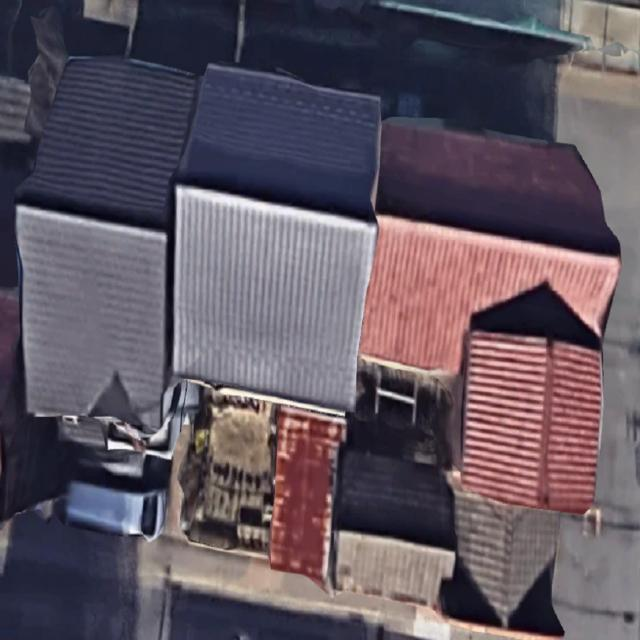Batiment: (360, 122, 620, 513), (172, 65, 380, 410), (16, 57, 198, 426), (336, 450, 455, 605)
